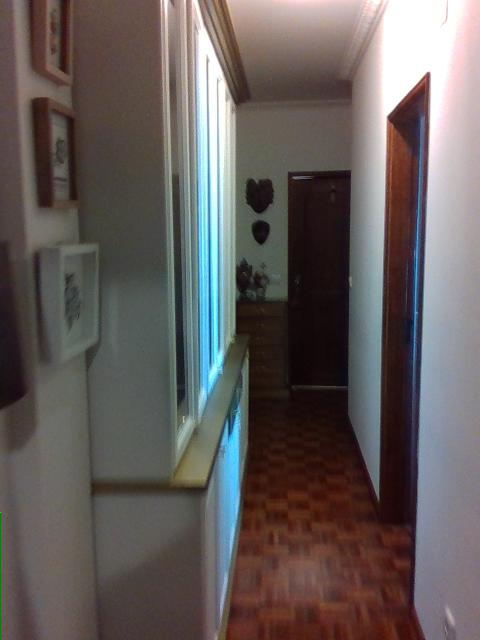closed_door: (285, 167, 354, 394)
